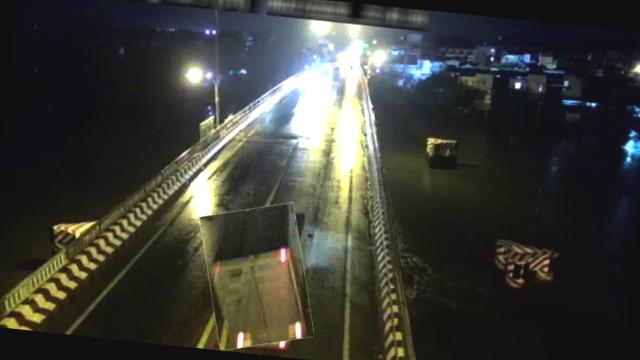Truck: (194, 199, 320, 355)
